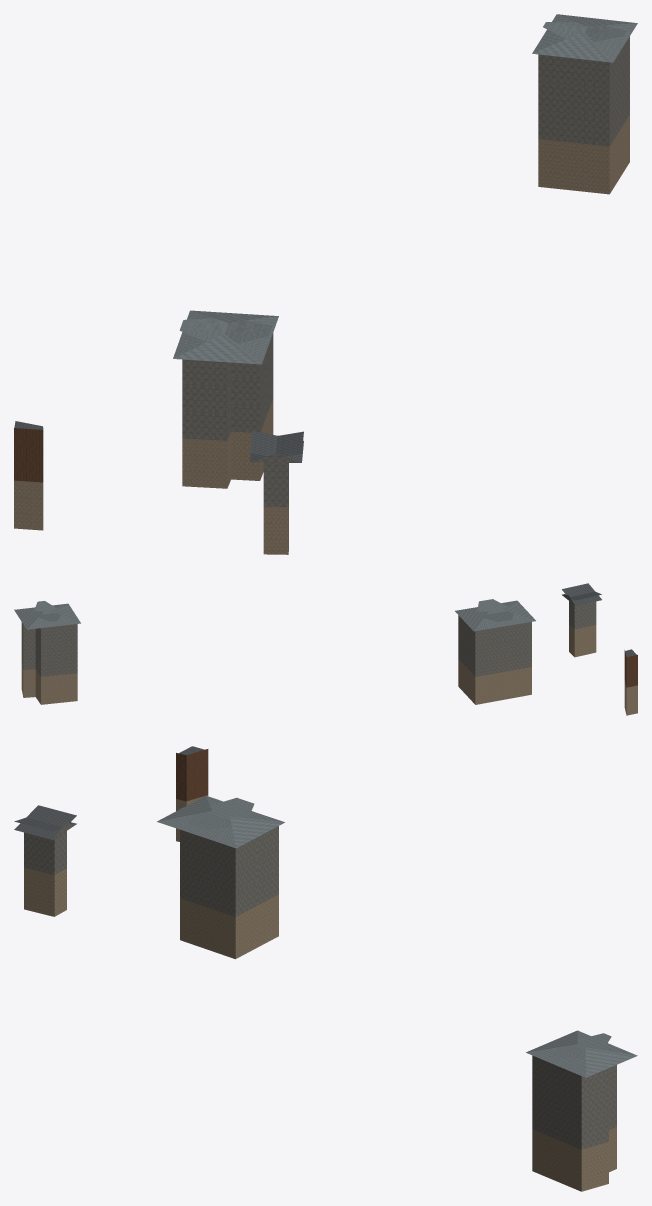
Rendered from bld_c17_28_383.gltf.
3 views of the same model, one above another, from view 1: azimuth 30°, elevation 25°; view 2: azimuth 150°, elevation 25°; view 3: azimuth 270°, elevation 25° (orthographic). The views are drawn at different scales.
Visible parts, largest first — view 1: bld_c17_28_383; view 2: bld_c17_28_383; view 3: bld_c17_28_383.
Boxes of the visible parts, <box> form: bld_c17_28_383: <box>14,14,637,554</box>; bld_c17_28_383: <box>14,583,637,715</box>; bld_c17_28_383: <box>14,746,637,1191</box>.
Bounding box in the file's own units: 94.19 × 15.9 × 68.28.
7 materials, 7 textured.
